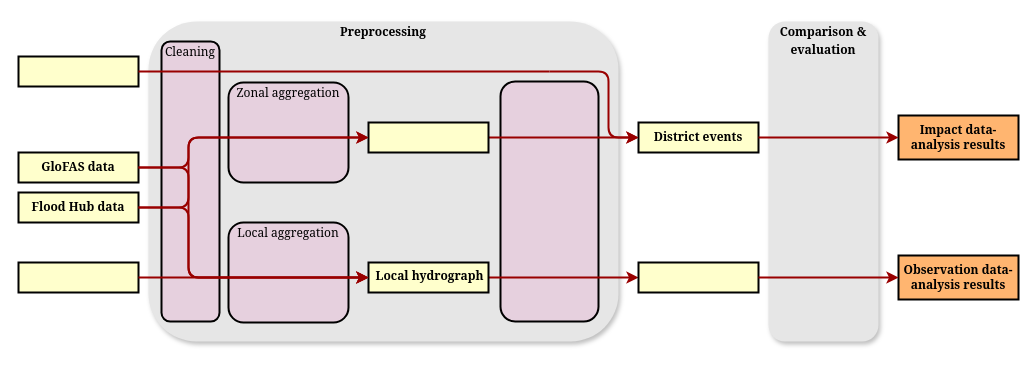
Some shapes in this 1036 by 365 pixel diagram are drawn without their labels. The centre of each missing label's shape, as x and y in pixels:
"District hydrograph" belongs at pixel 428 137.
"Extreme value analysis & event sampling" belongs at pixel 549 201.
"Impact data" belongs at pixel 78 71.
"Local events" belongs at pixel 698 277.
"Observation data" belongs at pixel 78 277.
